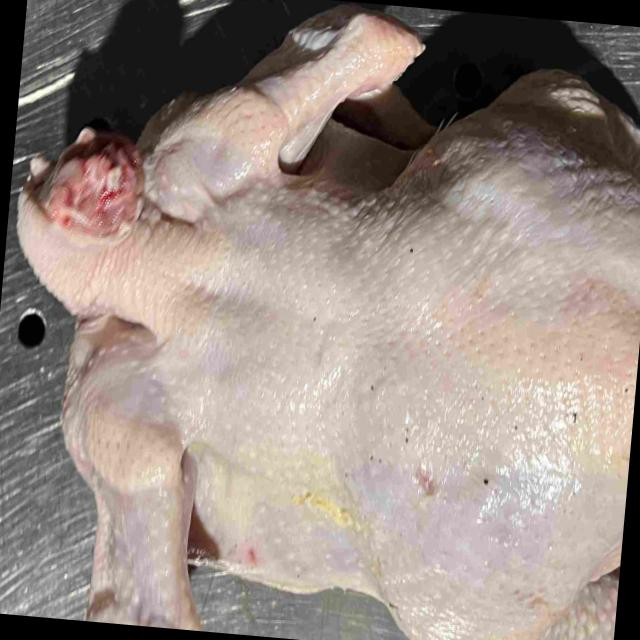back: (203, 148, 640, 551)
leg: (386, 545, 619, 640), (487, 69, 640, 197)
neck: (18, 134, 225, 340)
wing: (140, 4, 422, 221), (60, 311, 198, 631)
